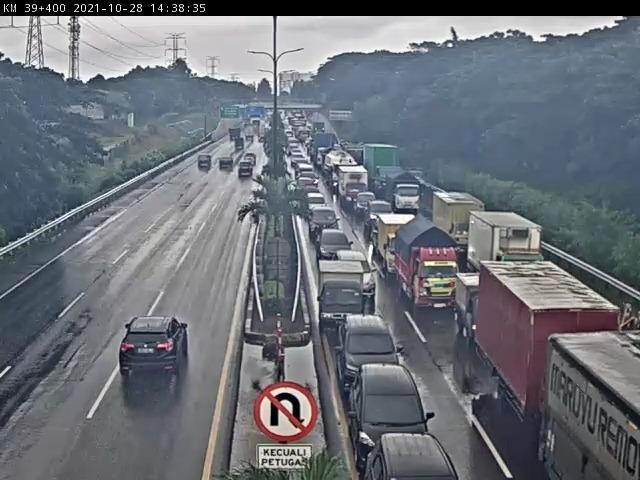car: (114, 315, 205, 388), (353, 364, 426, 435), (370, 436, 457, 478), (346, 319, 405, 375), (339, 251, 376, 292), (321, 230, 354, 266), (311, 207, 333, 243), (194, 151, 221, 176), (239, 164, 256, 183), (218, 158, 237, 174)
truck: (481, 257, 606, 442), (550, 335, 640, 480), (405, 214, 462, 302), (469, 212, 539, 283), (321, 260, 369, 332), (435, 190, 480, 245), (453, 275, 486, 340)
